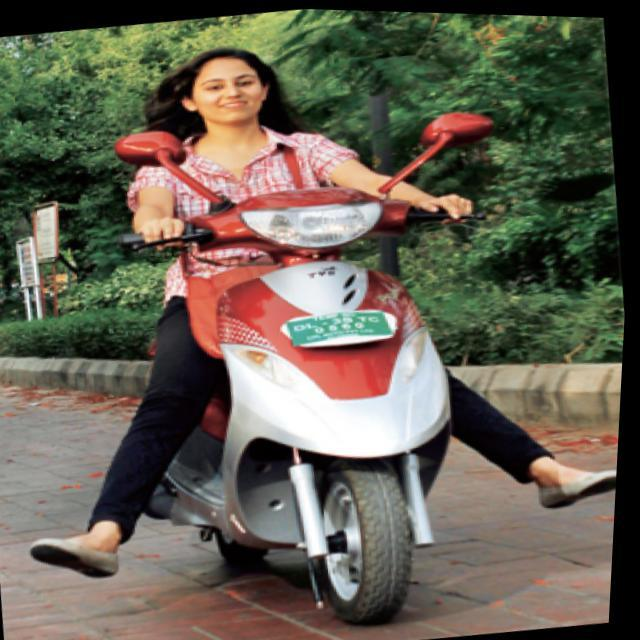Nonhelmet: (174, 45, 270, 131)
